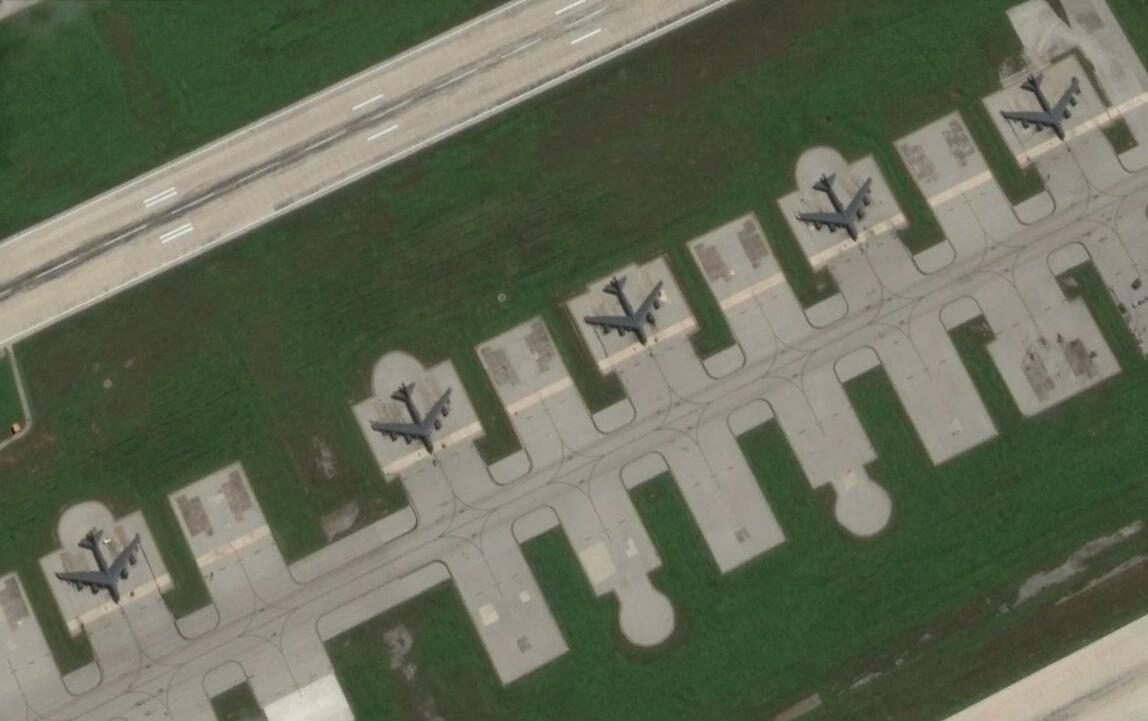A8: (53, 529, 151, 606), (369, 383, 459, 457), (586, 273, 669, 348), (999, 72, 1088, 141), (797, 169, 877, 241)
